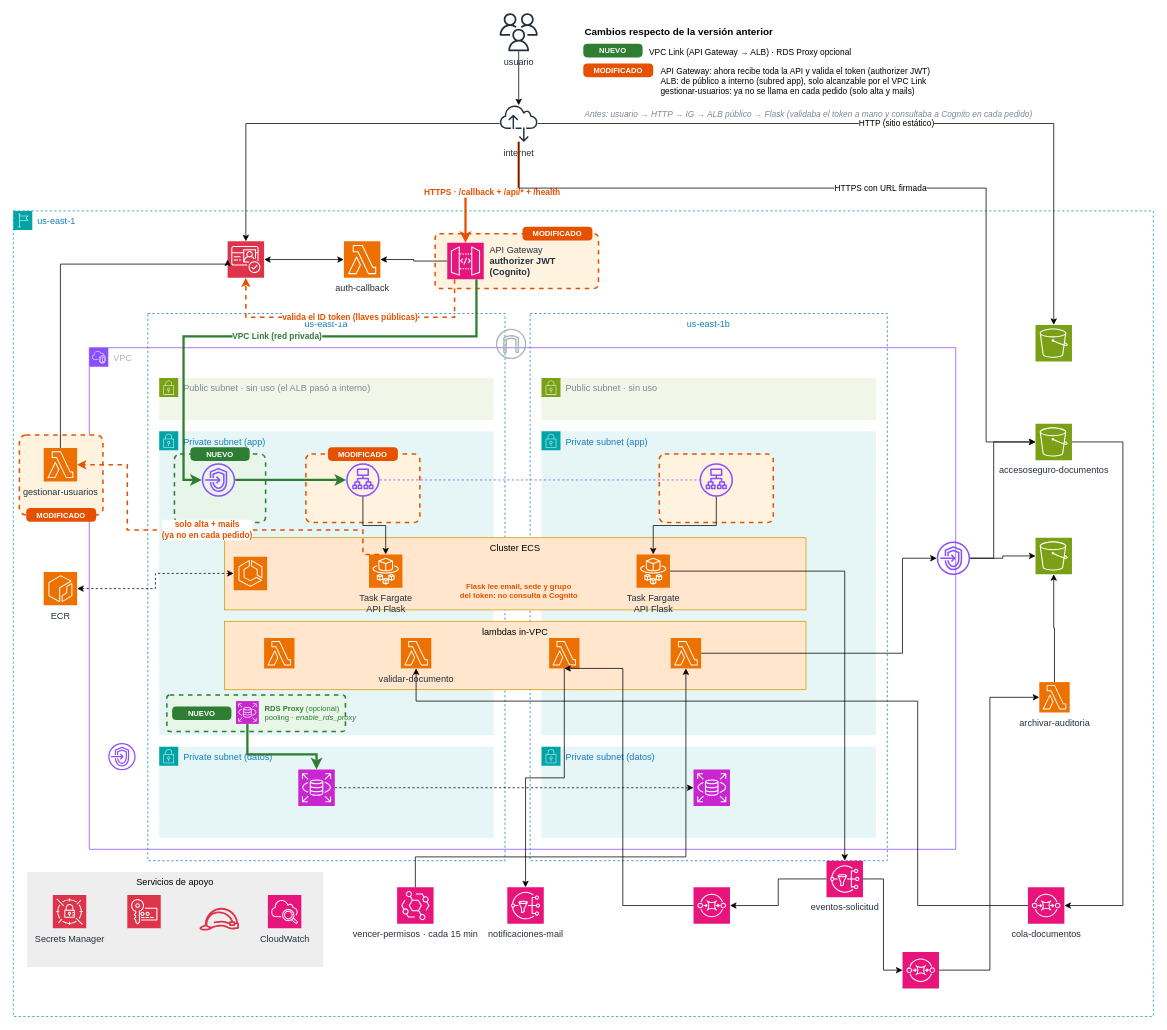
This 1167x1030 diagram has some shape labels left out. The shapes that lost their labels are listed below. From the top down, each one's centre as x and y in pixels, then its label:
At (245,259): "Cognito".
At (511,343): "IG".
At (1053,342): "accesoseguro-sitio".
At (218,479): "VPC Link".
At (362,479): "ALB interno".
At (716,479): "mismo ALB (interno)".
At (250,573): "ECS Service".
At (953,558): "S3 Gateway Endpoint".
At (1053,555): "accesoseguro-auditoria".
At (278,652): "generar-reporte".
At (564,652): "notificar-mail".
At (685,652): "vencer-permisos".
At (121,756): "Interface Endpoints: ECR API, ECR DKR, Logs, Secrets Manager, SNS y Lambda".
At (316,787): "PostgreSQL Multi-AZ".
At (711,787): "Replicación".
At (144,911): "KMS".
At (219,919): "Lab Role".
At (711,905): "cola-notificaciones".
At (920,969): "cola-auditoria".
